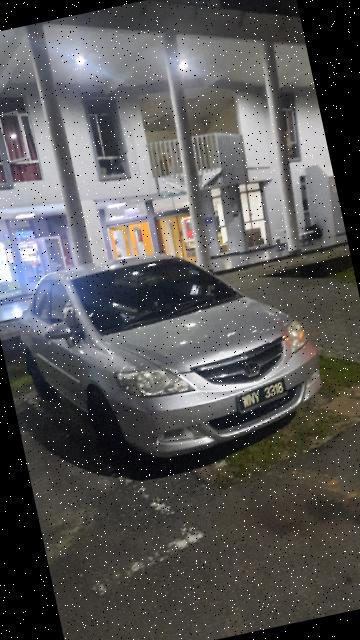License_Plate: (233, 375, 291, 414)
car: (9, 221, 333, 480)
